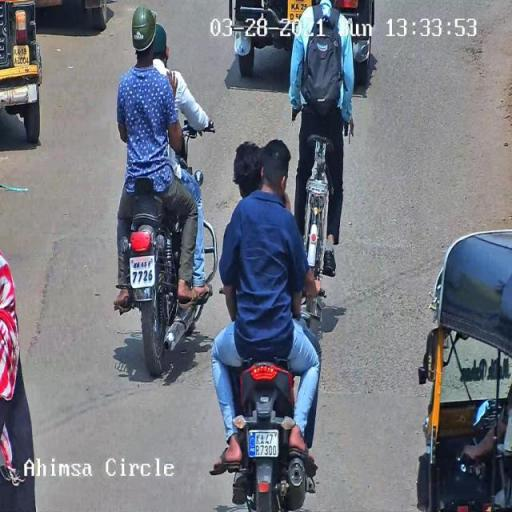tripple riding: (210, 130, 327, 332)
